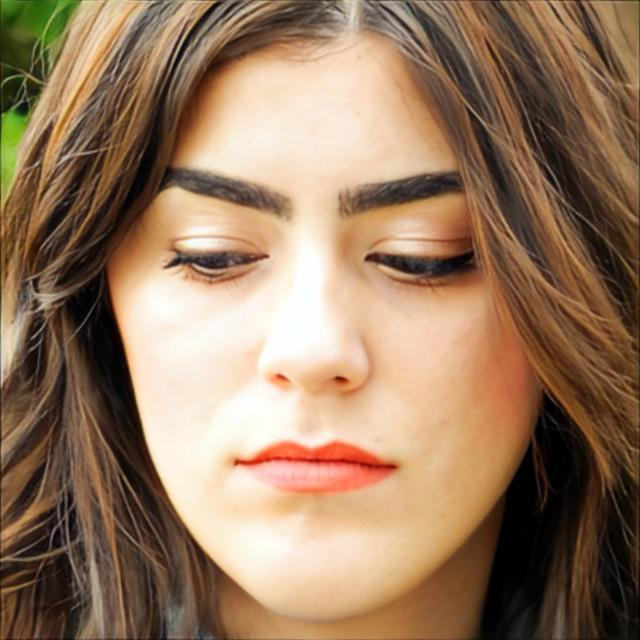sad: (106, 27, 540, 609)
